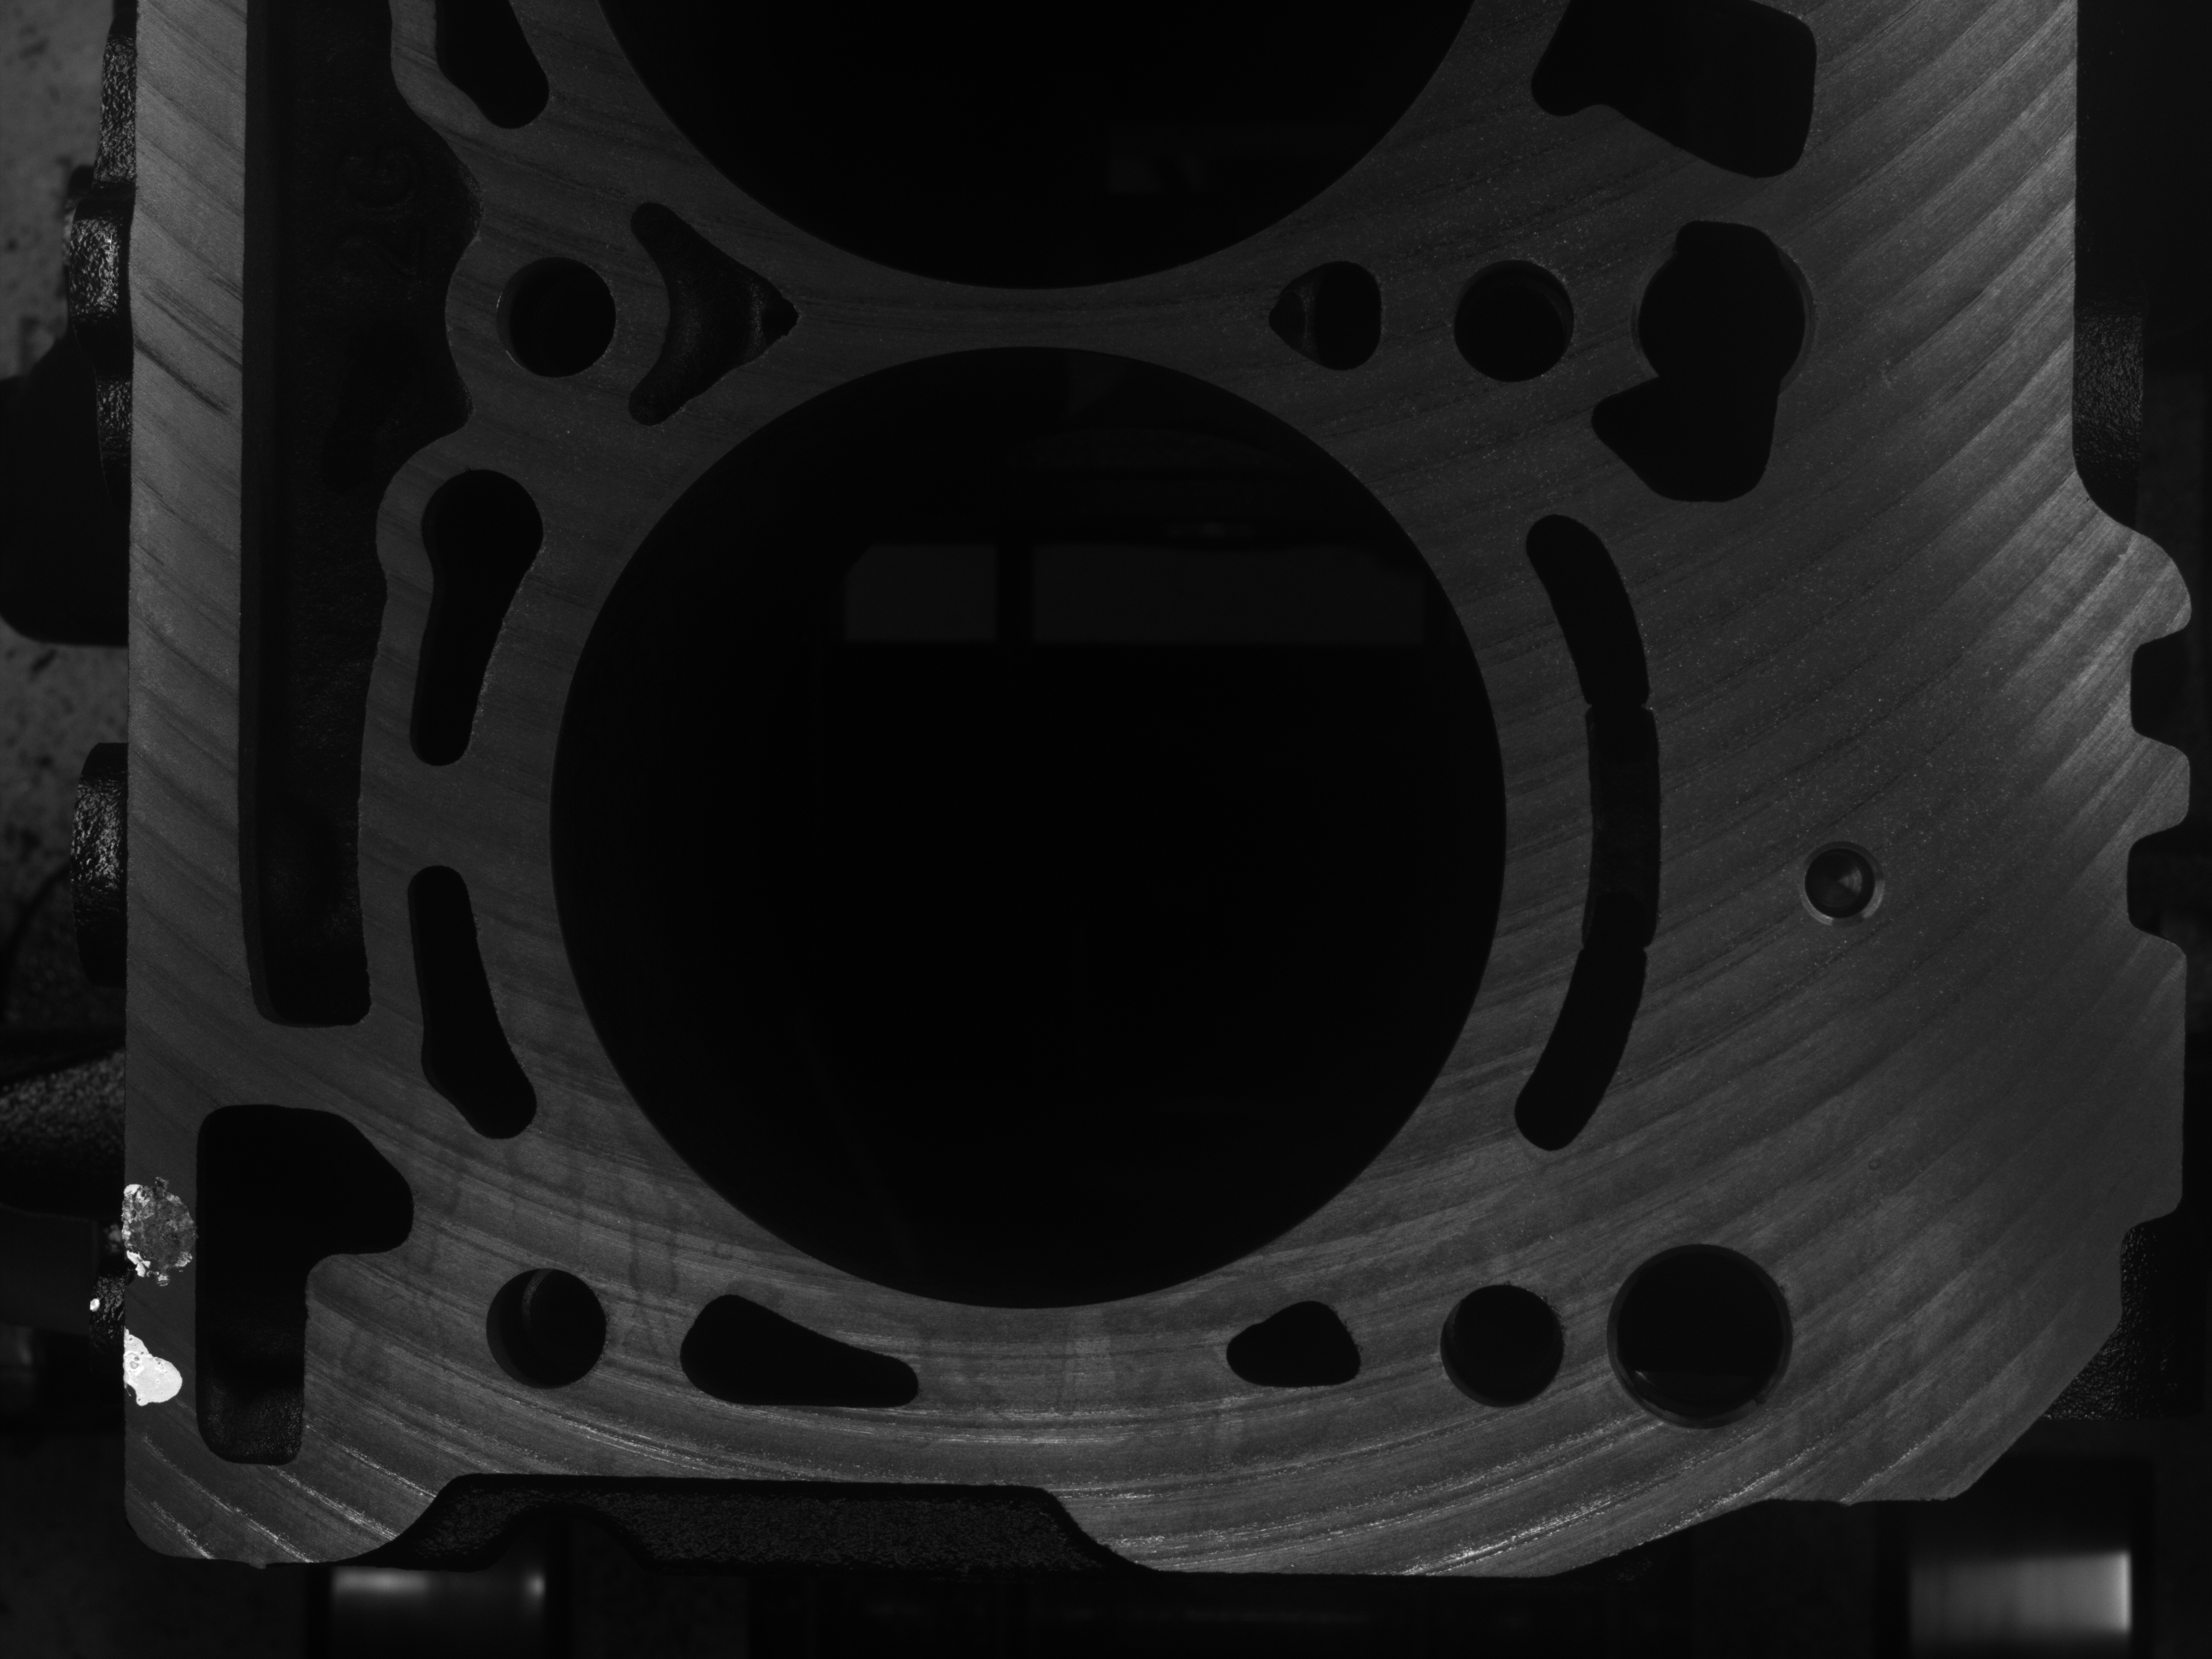sandhole: (108, 1241, 148, 1297)
